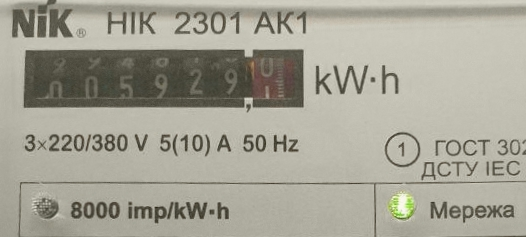0: (82, 72, 101, 101), (45, 75, 66, 99), (257, 55, 277, 78)
2: (185, 65, 205, 98)
5: (117, 71, 135, 100)
9: (150, 69, 171, 100), (221, 65, 241, 97), (49, 55, 68, 73)
screen: (16, 37, 313, 123)
